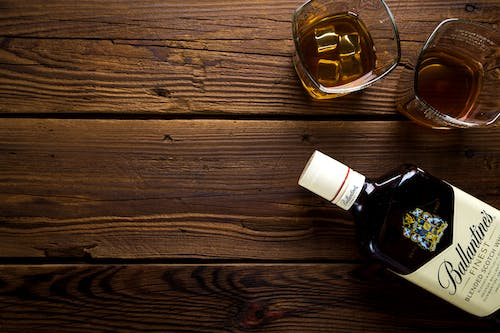alcohol: (295, 149, 500, 327), (395, 16, 500, 130), (291, 0, 402, 101)
